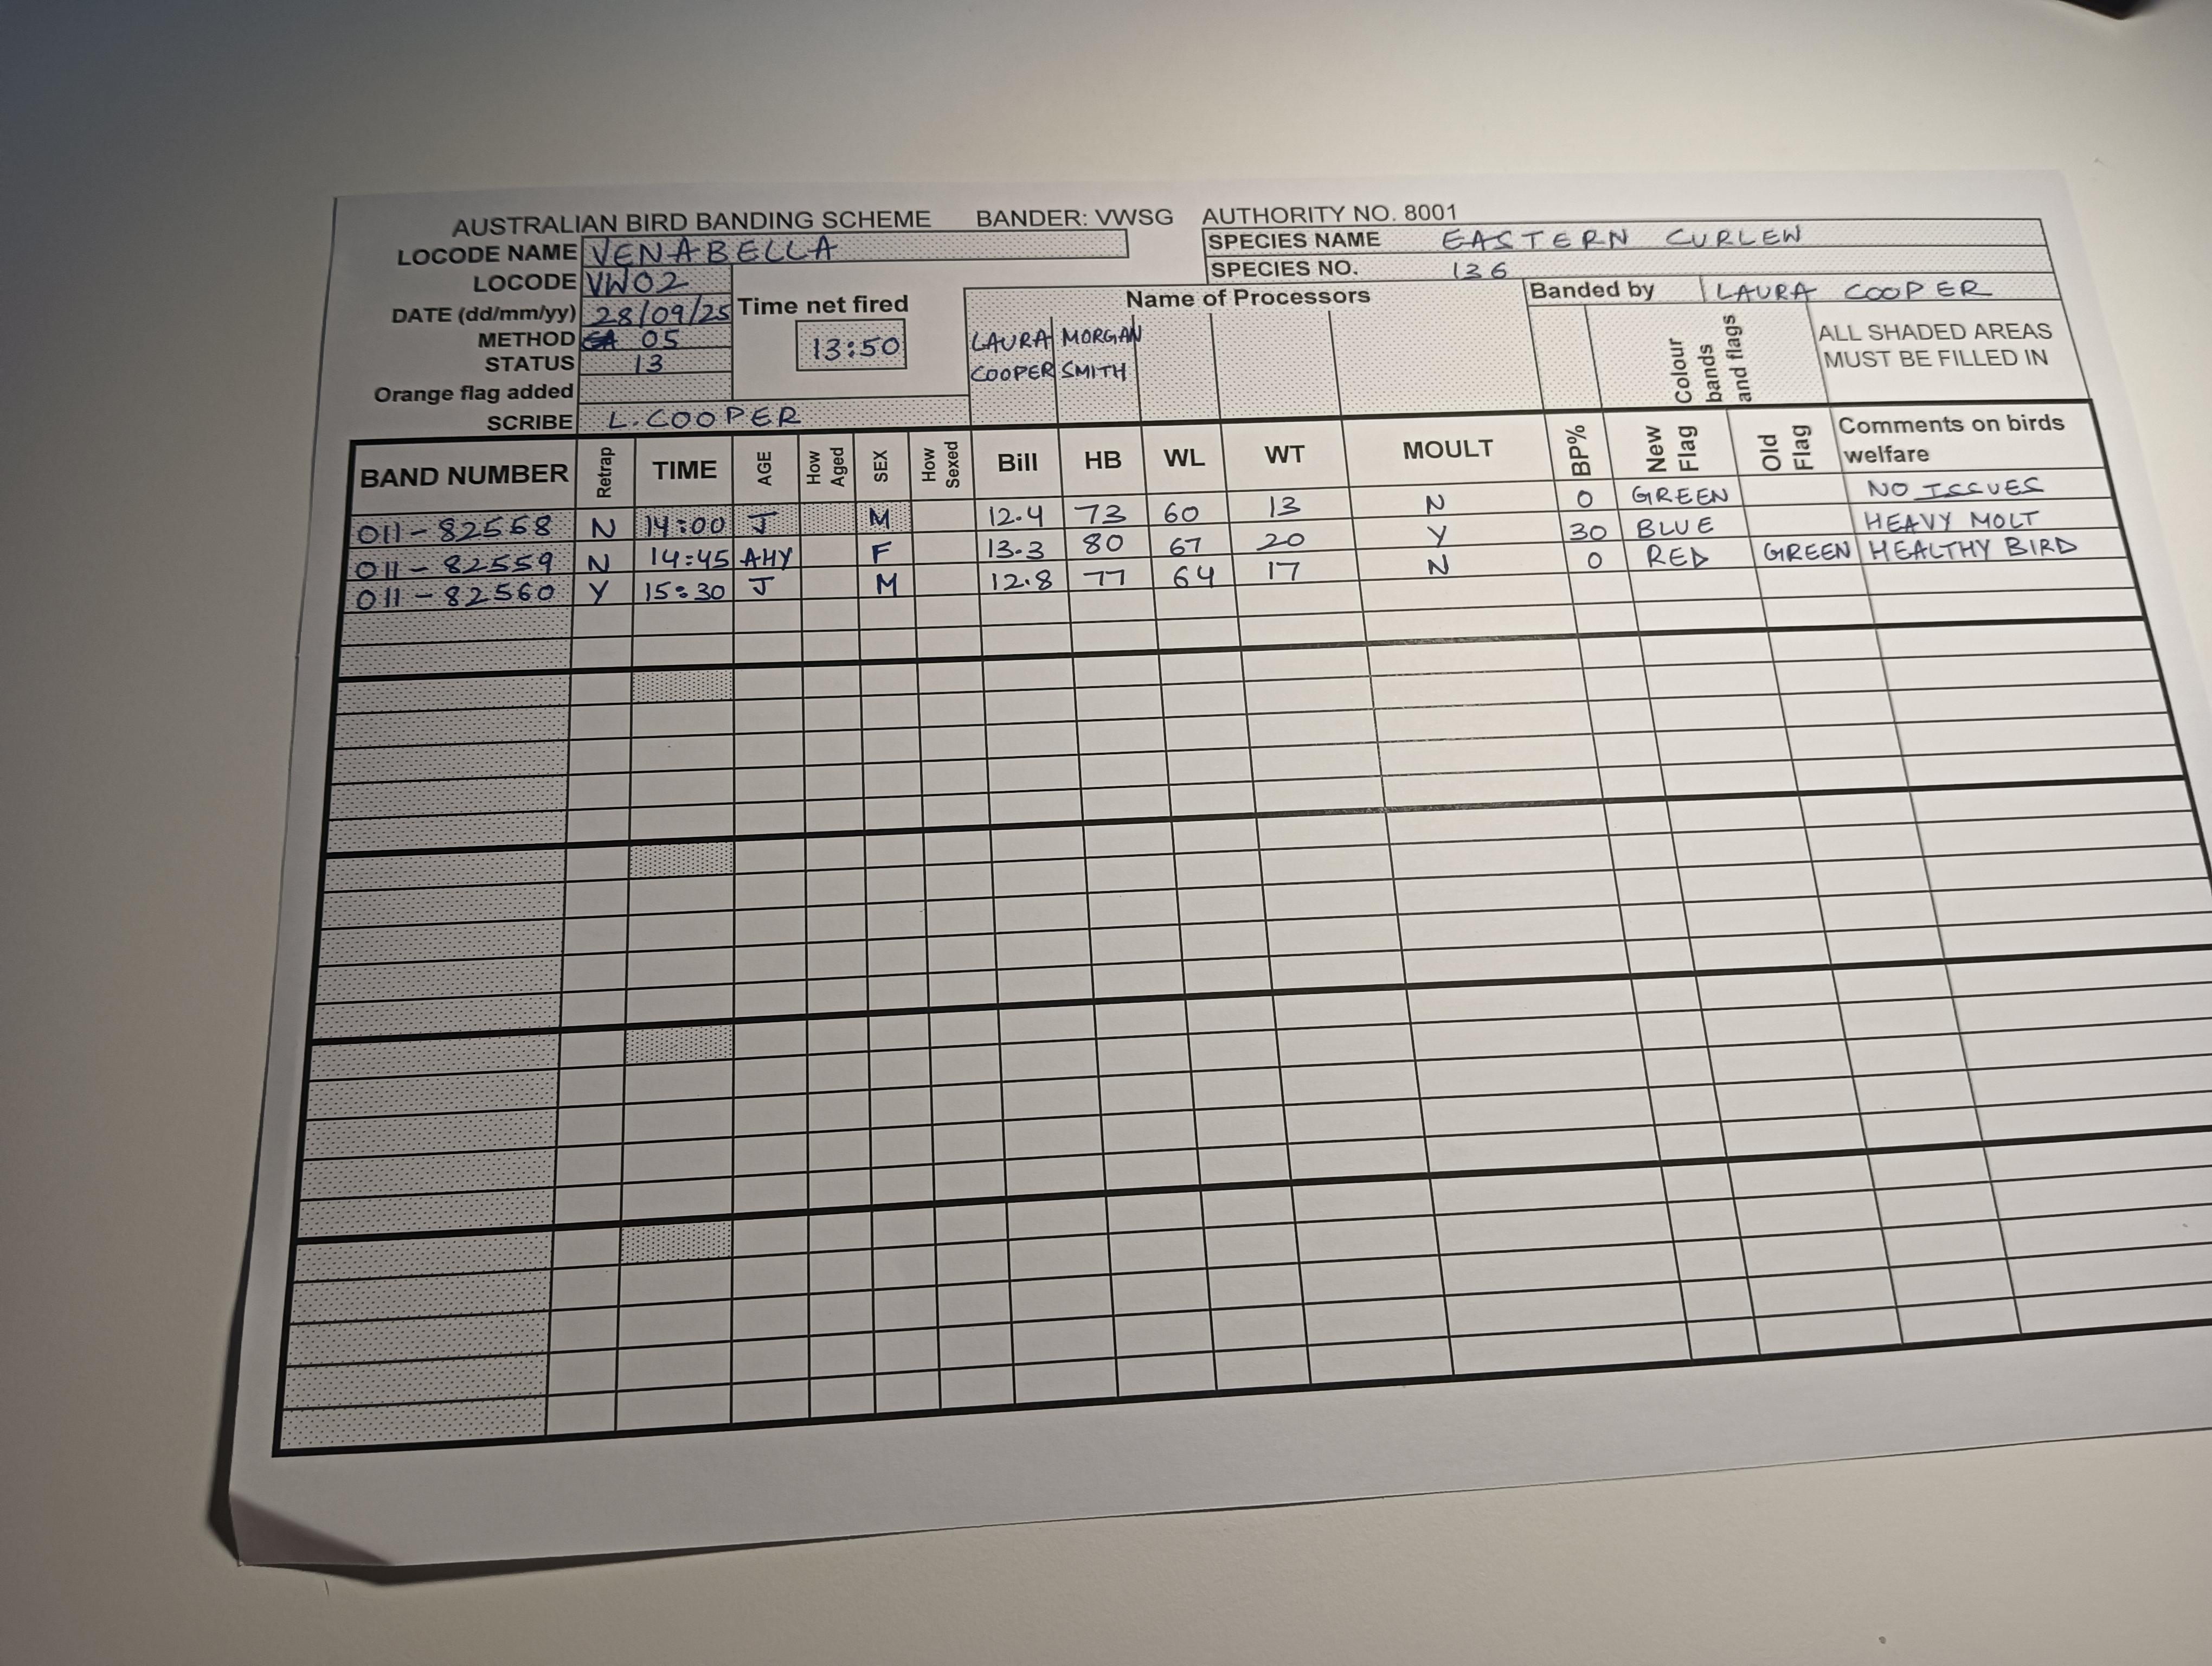BANDED_BY: (1527, 269, 2063, 308)
DATA: (341, 525, 2126, 611), (346, 497, 2121, 579), (346, 469, 2112, 548)
DATE: (383, 291, 743, 331)
LOCOCODE: (455, 264, 738, 296)
LOCOCODE_NAME: (385, 229, 1126, 273)
METHOD: (455, 318, 734, 352)
NAME_OF_PROCESSORS: (1054, 306, 1152, 425), (967, 305, 1054, 431)
ORANGE_FLAG_ADDED: (360, 371, 734, 413)
SCRIBE: (467, 397, 974, 436)
SPECIES_NAME: (1210, 219, 2048, 254)
SPECIES_NO: (1207, 249, 2053, 285)
STATUS: (465, 346, 740, 376)
TIME_NET_FIRED: (738, 285, 936, 380)
